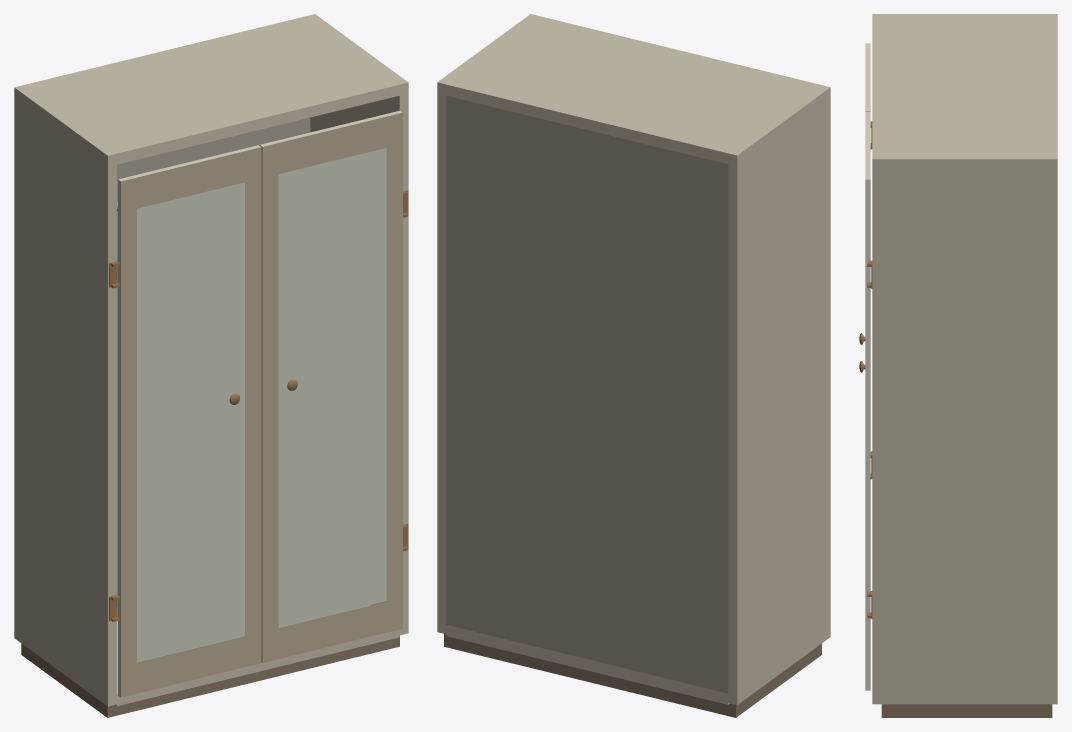
3 renders of one model, left to right at view 1: azimuth 30°, elevation 25°; view 2: azimuth 150°, elevation 25°; view 3: azimuth 270°, elevation 25°, orthographic.
Visible parts, largest first — view 1: wardrobe-body, wardrobe-right-insert, wardrobe-left-insert, wardrobe-right-inset, wardrobe-left-inset, wardrobe-base, wardrobe-lining, wardrobe-left-panel, wardrobe-right-panel, wardrobe-hinge-mounts; view 2: wardrobe-lining, wardrobe-body, wardrobe-base; view 3: wardrobe-body, wardrobe-right-panel, wardrobe-base, wardrobe-left-panel, wardrobe-hinge-mounts.
Part boxes in pixels (x1=…): wardrobe-body: x1=14, y1=14, x2=408, y2=706; wardrobe-right-insert: x1=278, y1=148, x2=386, y2=627; wardrobe-left-insert: x1=137, y1=182, x2=244, y2=661; wardrobe-right-inset: x1=262, y1=112, x2=402, y2=662; wardrobe-left-inset: x1=121, y1=147, x2=261, y2=697; wardrobe-base: x1=21, y1=635, x2=399, y2=717; wardrobe-lining: x1=117, y1=117, x2=310, y2=607; wardrobe-left-panel: x1=118, y1=145, x2=260, y2=697; wardrobe-right-panel: x1=259, y1=110, x2=402, y2=662; wardrobe-hinge-mounts: x1=109, y1=190, x2=408, y2=621; wardrobe-lining: x1=446, y1=95, x2=728, y2=693; wardrobe-body: x1=437, y1=14, x2=830, y2=705; wardrobe-base: x1=444, y1=633, x2=821, y2=717; wardrobe-body: x1=872, y1=14, x2=1057, y2=704; wardrobe-right-panel: x1=865, y1=112, x2=870, y2=690; wardrobe-base: x1=881, y1=704, x2=1052, y2=717; wardrobe-left-panel: x1=865, y1=43, x2=870, y2=111; wardrobe-hinge-mounts: x1=867, y1=121, x2=872, y2=619.
Bounding box in the file's own units: 1 × 1.8 × 0.577.
